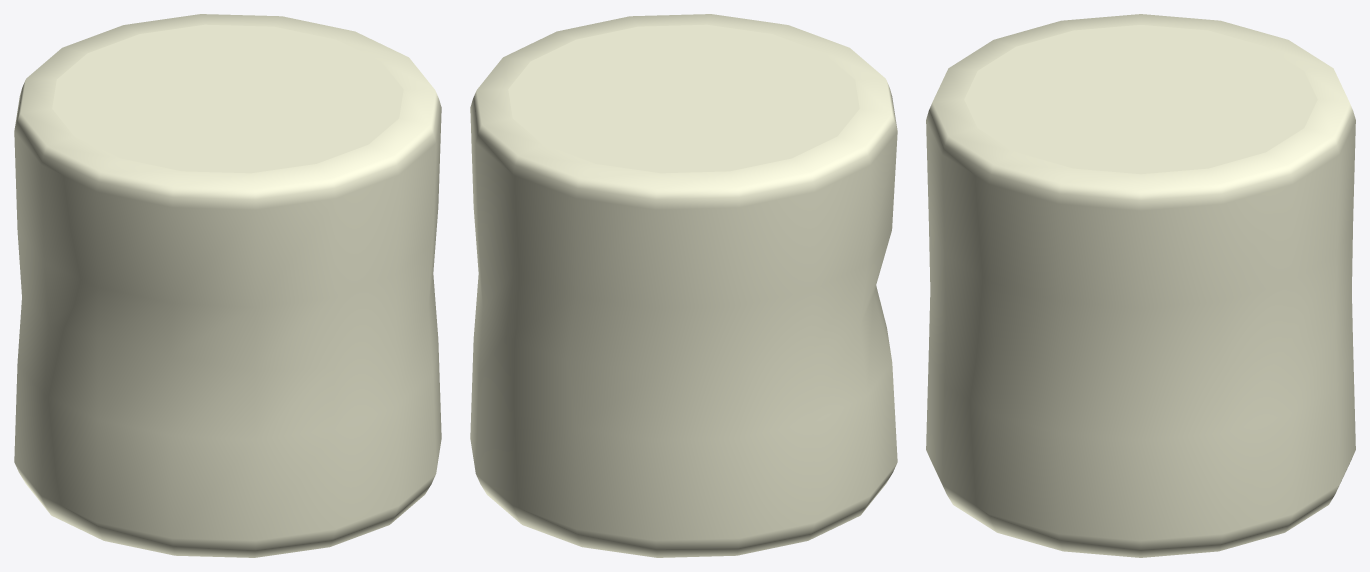
Rendered from Marshmallow_01.fbx.
3 renders of one model, left to right at view 1: azimuth 30°, elevation 25°; view 2: azimuth 150°, elevation 25°; view 3: azimuth 270°, elevation 25°, orthographic.
Visible parts, largest first — view 1: Marshmallow_GEO; view 2: Marshmallow_GEO; view 3: Marshmallow_GEO.
Part boxes in pixels (bbox=[...]): Marshmallow_GEO: bbox=[14, 14, 441, 557]; Marshmallow_GEO: bbox=[470, 14, 897, 557]; Marshmallow_GEO: bbox=[926, 14, 1355, 557].
Size of the model in its own units: 0.9808 by 0.9413 by 0.9808.
